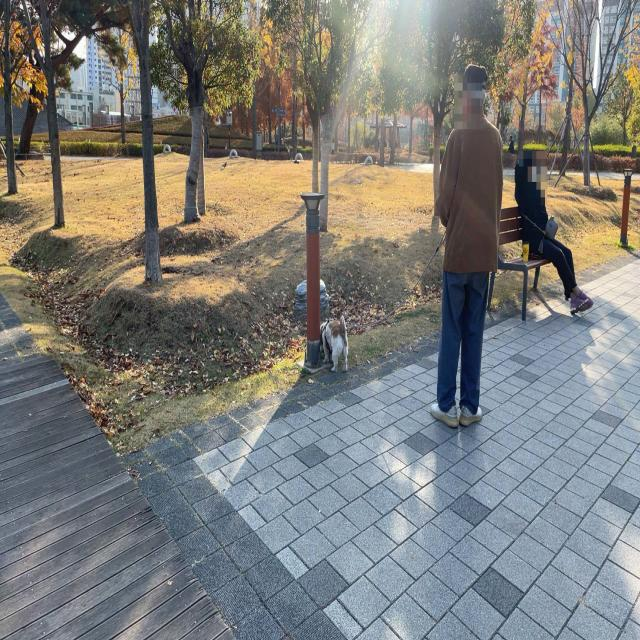Leashed_Dog: (320, 228, 456, 376)
